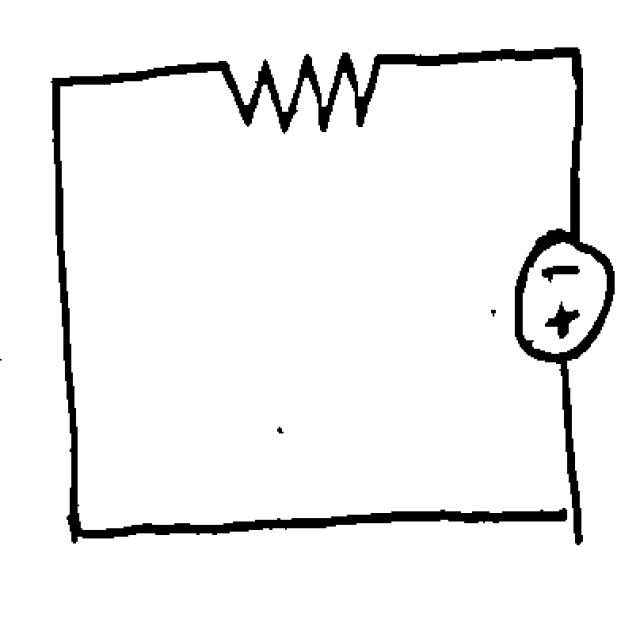dc: (507, 222, 621, 366)
resistor: (198, 38, 401, 142)
